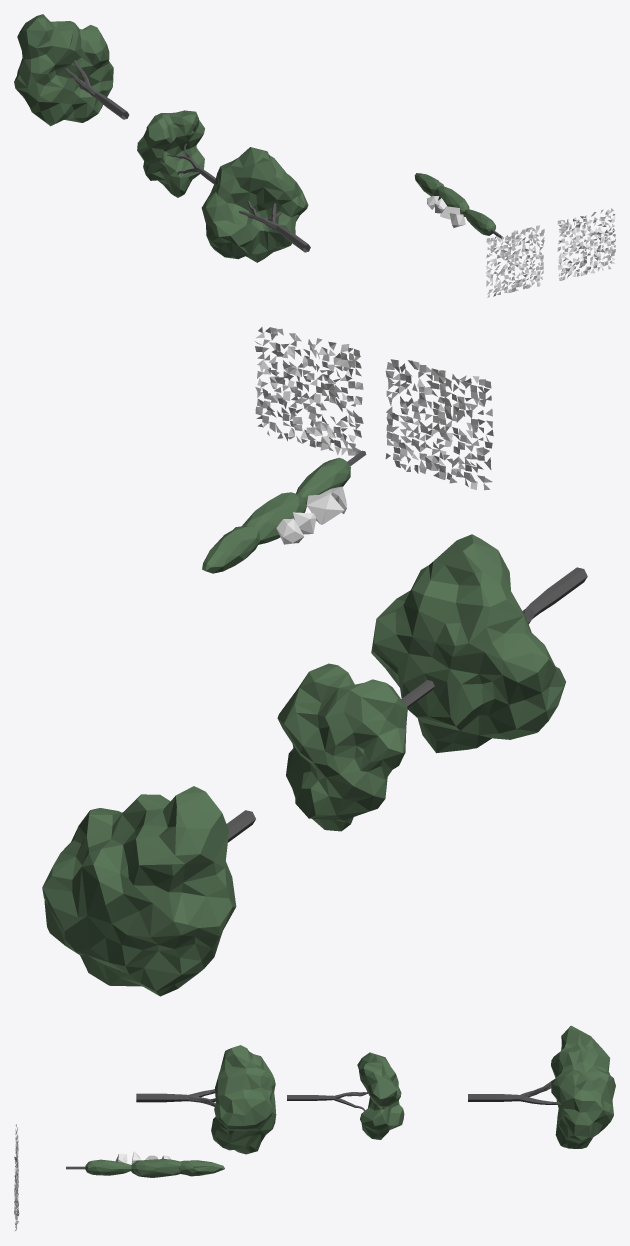
File: Flora.fbx
3 renders of one model, top to bottom at view 1: azimuth 30°, elevation 25°; view 2: azimuth 150°, elevation 25°; view 3: azimuth 270°, elevation 25°, orthographic. The views are drawn at different scales.
Visible parts, largest first — view 1: Tree 2, Tree 1, Tree 3, Ivy Cover 1, Ivy Cover 2, Tree 4, Tree 5; view 2: Tree 2, Tree 1, Tree 3, Ivy Cover 1, Ivy Cover 2, Tree 6, Tree 5, Tree 4; view 3: Tree 2, Tree 1, Tree 3, Tree 5, Tree 4, Tree 6, Ivy Cover 2.
Part boxes in pixels (left/top/right/bottom): Tree 2: left=14, top=14, right=129, bottom=126; Tree 1: left=201, top=147, right=310, bottom=262; Tree 3: left=137, top=110, right=215, bottom=197; Ivy Cover 1: left=486, top=225, right=544, bottom=297; Ivy Cover 2: left=557, top=208, right=615, bottom=280; Tree 4: left=464, top=209, right=503, bottom=238; Tree 5: left=433, top=186, right=469, bottom=216; Tree 2: left=42, top=786, right=255, bottom=996; Tree 1: left=371, top=534, right=587, bottom=753; Tree 3: left=277, top=663, right=434, bottom=831; Ivy Cover 1: left=385, top=359, right=493, bottom=490; Ivy Cover 2: left=255, top=327, right=363, bottom=455; Tree 6: left=202, top=526, right=260, bottom=573; Tree 5: left=242, top=492, right=306, bottom=544; Tree 4: left=296, top=450, right=366, bottom=506; Tree 2: left=468, top=1025, right=615, bottom=1148; Tree 1: left=136, top=1045, right=276, bottom=1154; Tree 3: left=287, top=1052, right=404, bottom=1139; Tree 5: left=131, top=1159, right=181, bottom=1177; Tree 4: left=66, top=1159, right=131, bottom=1175; Tree 6: left=179, top=1160, right=224, bottom=1176; Ivy Cover 2: left=14, top=1155, right=19, bottom=1231.
Bounding box in the file's own units: 2052 × 804 × 3995.
